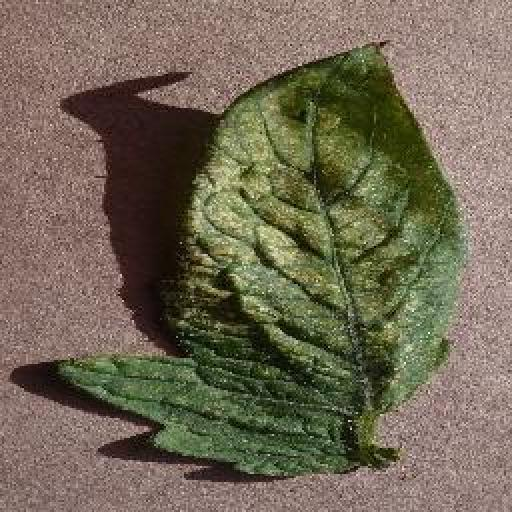Spider Mites: (58, 36, 468, 479)
